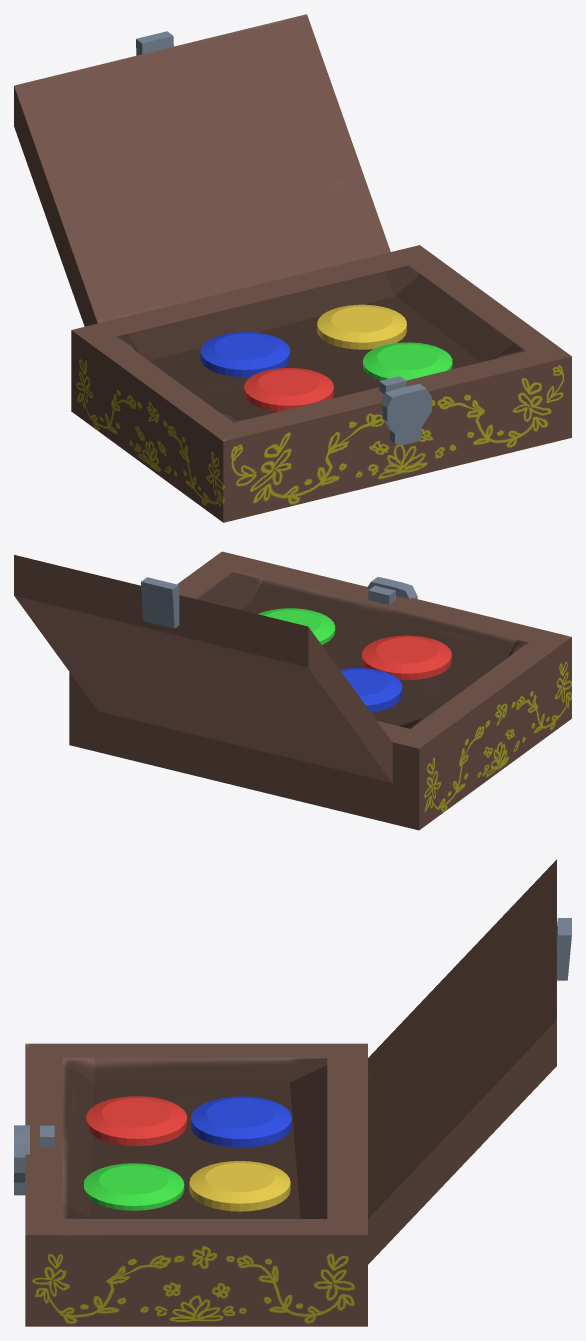
File: meikkilaatikko.fbx
The picture shows the model from 3 angles, top to bottom: view 1: azimuth 30°, elevation 25°; view 2: azimuth 150°, elevation 25°; view 3: azimuth 270°, elevation 25°; orthographic projection. The views are drawn at different scales.
Parts seen in each view (by area): view 1: meikkirasia, meikkilukko, meikki4, meikki1, meikki3, meikki2; view 2: meikkirasia, meikki3, meikkilukko, meikki1, meikki2; view 3: meikkirasia, meikki1, meikki4, meikki3, meikki2, meikkilukko.
Boxes of the visible parts, left/top/right/bottom form: meikkirasia: left=14, top=14, right=571, bottom=522; meikkilukko: left=136, top=31, right=431, bottom=445; meikki4: left=317, top=304, right=406, bottom=349; meikki1: left=200, top=332, right=289, bottom=377; meikki3: left=244, top=368, right=333, bottom=411; meikki2: left=363, top=342, right=452, bottom=380; meikkirasia: left=14, top=551, right=571, bottom=830; meikki3: left=362, top=635, right=451, bottom=680; meikkilukko: left=141, top=577, right=417, bottom=628; meikki1: left=340, top=668, right=402, bottom=712; meikki2: left=258, top=608, right=335, bottom=644; meikkirasia: left=25, top=859, right=556, bottom=1326; meikki1: left=191, top=1096, right=291, bottom=1147; meikki4: left=189, top=1161, right=290, bottom=1211; meikki3: left=86, top=1096, right=187, bottom=1146; meikki2: left=84, top=1163, right=184, bottom=1210; meikkilukko: left=14, top=918, right=571, bottom=1195.
Size of the model in its own units: 37.5 by 27.61 by 46.18.
